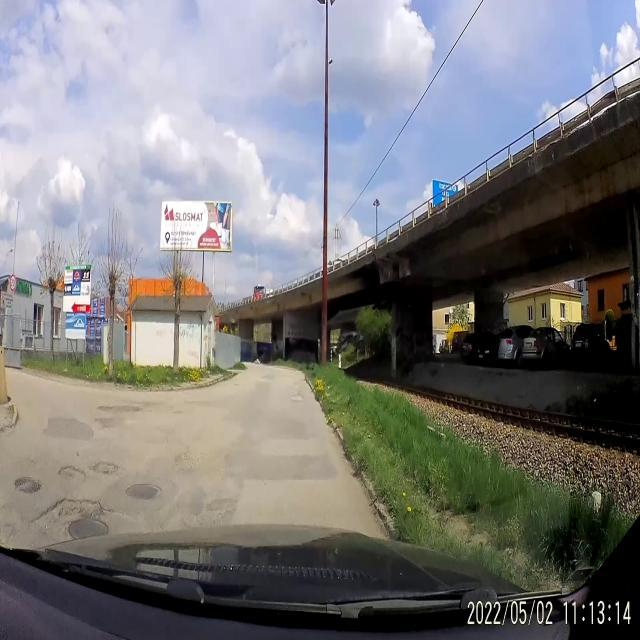Manhole: (66, 513, 112, 542), (127, 480, 164, 508), (12, 468, 44, 498)
Pothole: (39, 498, 110, 536), (188, 502, 231, 534), (58, 455, 88, 493), (88, 454, 122, 486), (174, 442, 200, 473), (95, 400, 142, 414), (95, 414, 120, 432), (292, 392, 306, 406)
